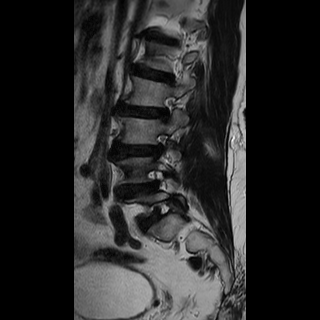RFS1: (152, 92, 181, 127)
RFS2: (147, 129, 178, 164)
